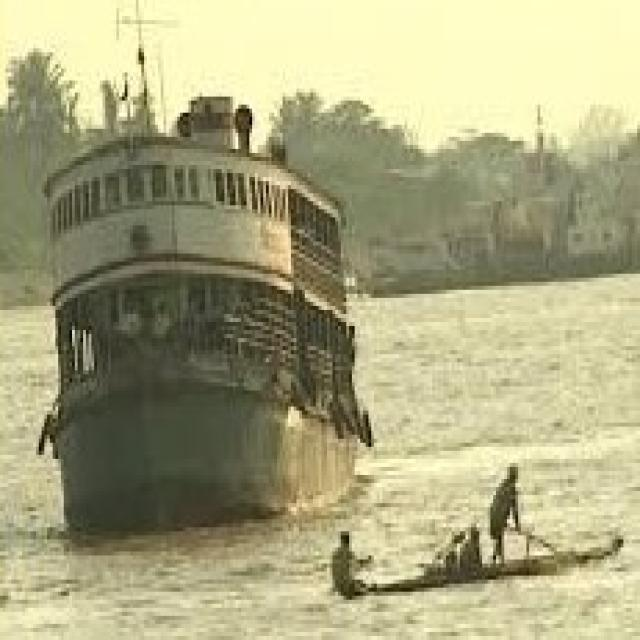passenger ship: (36, 53, 377, 511)
